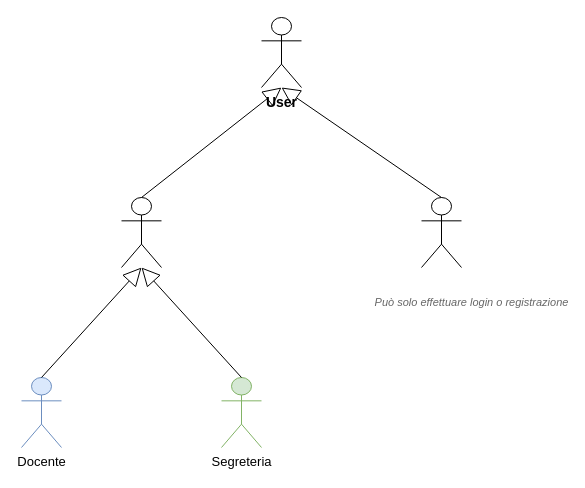
This 585x488 diagram has some shape labels left out. Each missing label, with the centre of its shape:
"Utente Non Registrato" goes at [441,232].
"Utente Registrato" goes at [141,232].
